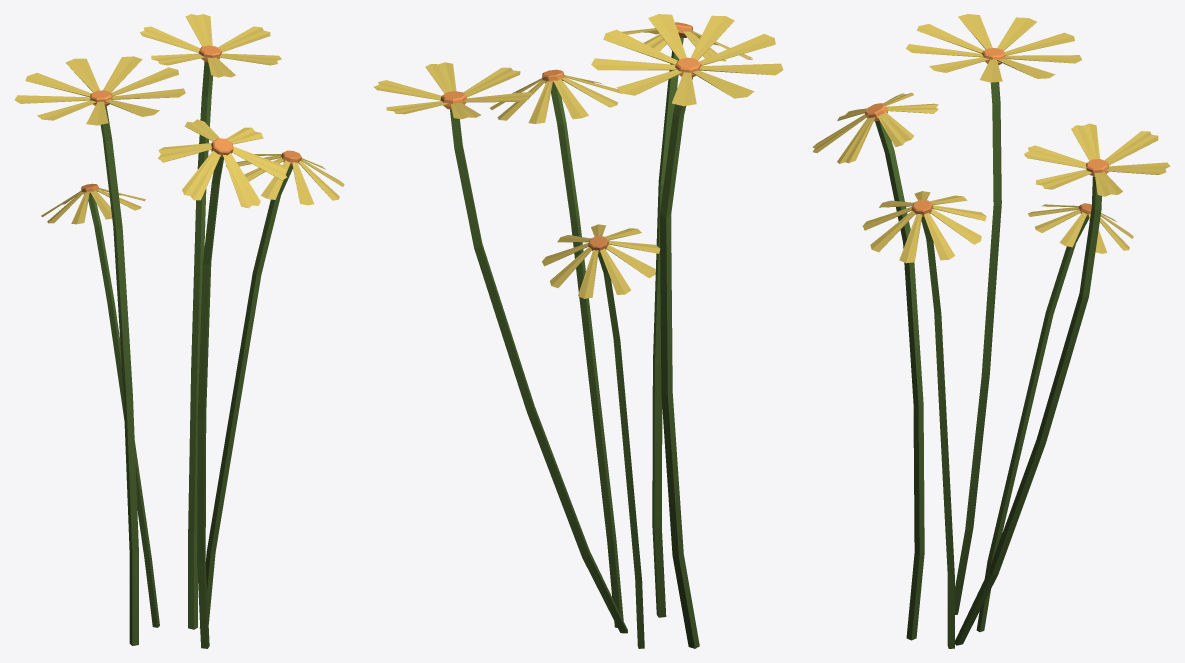
Rendered from Env_Flower_Patch_03.obj.
The picture shows the model from 3 angles, left to right: view 1: azimuth 30°, elevation 25°; view 2: azimuth 150°, elevation 25°; view 3: azimuth 270°, elevation 25°; orthographic projection. The views are drawn at different scales.
Visible parts, largest first — view 1: Env_Flower_Patch_03; view 2: Env_Flower_Patch_03; view 3: Env_Flower_Patch_03.
Part boxes in pixels (x1,y1,x2,y2): Env_Flower_Patch_03: (14,14,344,648); Env_Flower_Patch_03: (374,14,783,648); Env_Flower_Patch_03: (812,14,1170,648).
Size of the model in its own units: 0.2948 by 0.5225 by 0.3012.
Materials: 1 (1 with a texture image).
